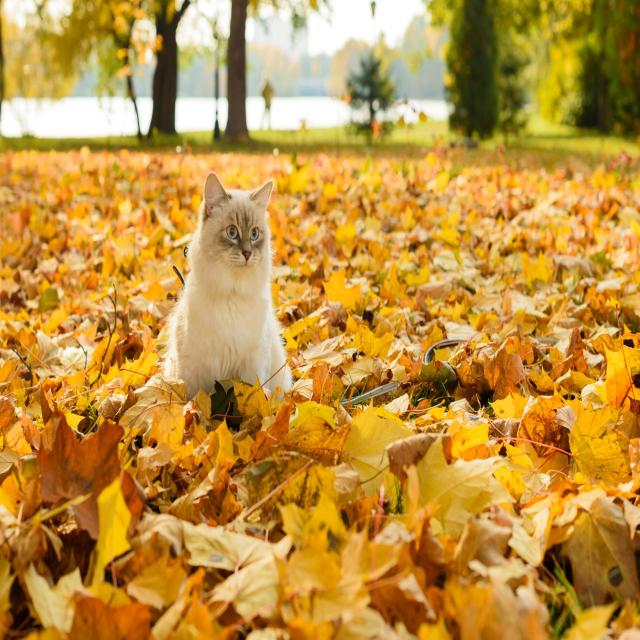Neva Masquerade: (154, 169, 298, 407)
